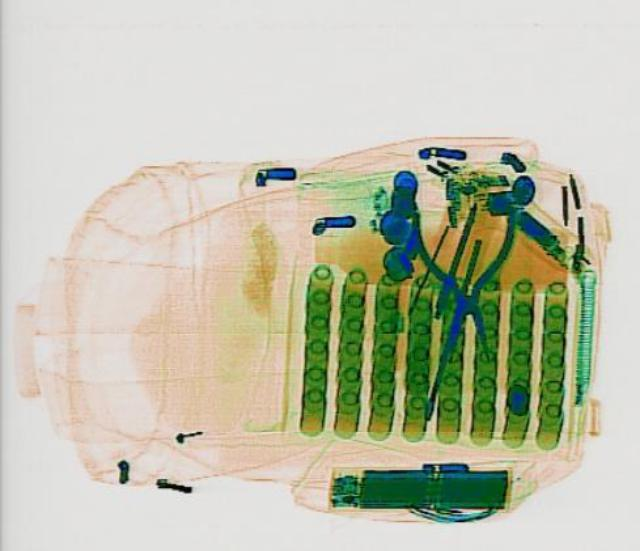Pliers: (408, 209, 518, 370)
